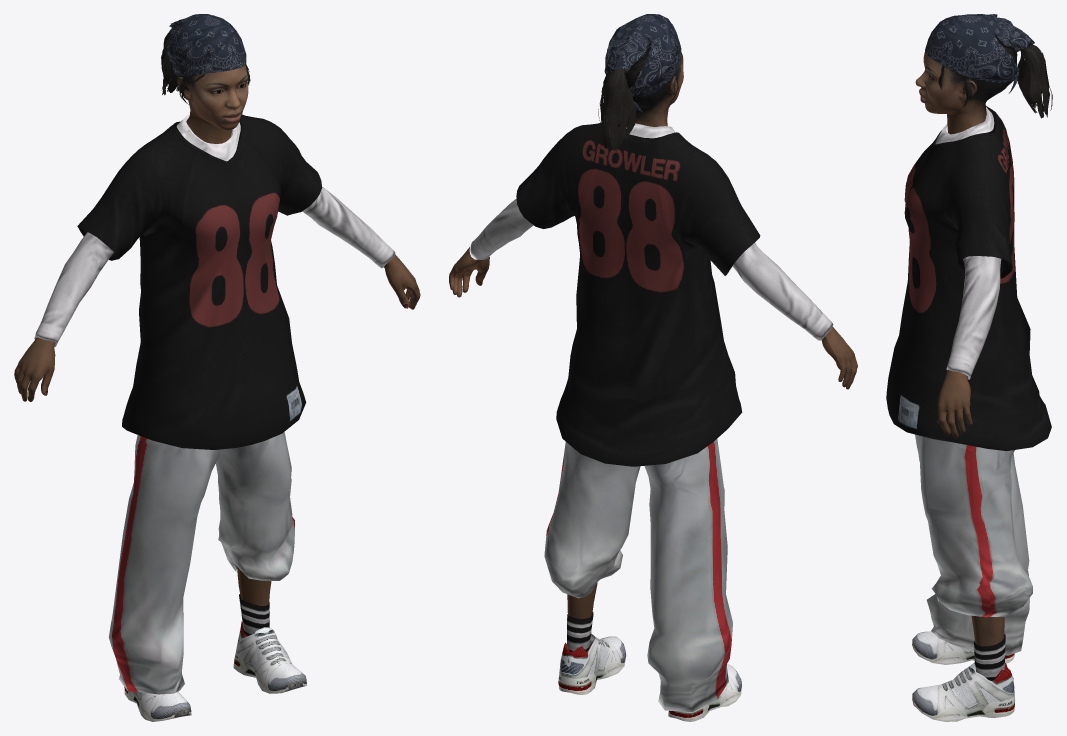
The model's file is Rochelle.fbx.
3 renders of one model, left to right at view 1: azimuth 30°, elevation 25°; view 2: azimuth 150°, elevation 25°; view 3: azimuth 270°, elevation 25°, orthographic.
Parts seen in each view (by area): view 1: L4D2 ROCHELLE WITH DENISE SKIN; view 2: L4D2 ROCHELLE WITH DENISE SKIN; view 3: L4D2 ROCHELLE WITH DENISE SKIN.
Part boxes in pixels (x1,y1,x2,y2): L4D2 ROCHELLE WITH DENISE SKIN: (14,14,420,721); L4D2 ROCHELLE WITH DENISE SKIN: (449,14,857,721); L4D2 ROCHELLE WITH DENISE SKIN: (886,14,1052,721).
Bounding box in the file's own units: 114 × 184 × 41.53.
